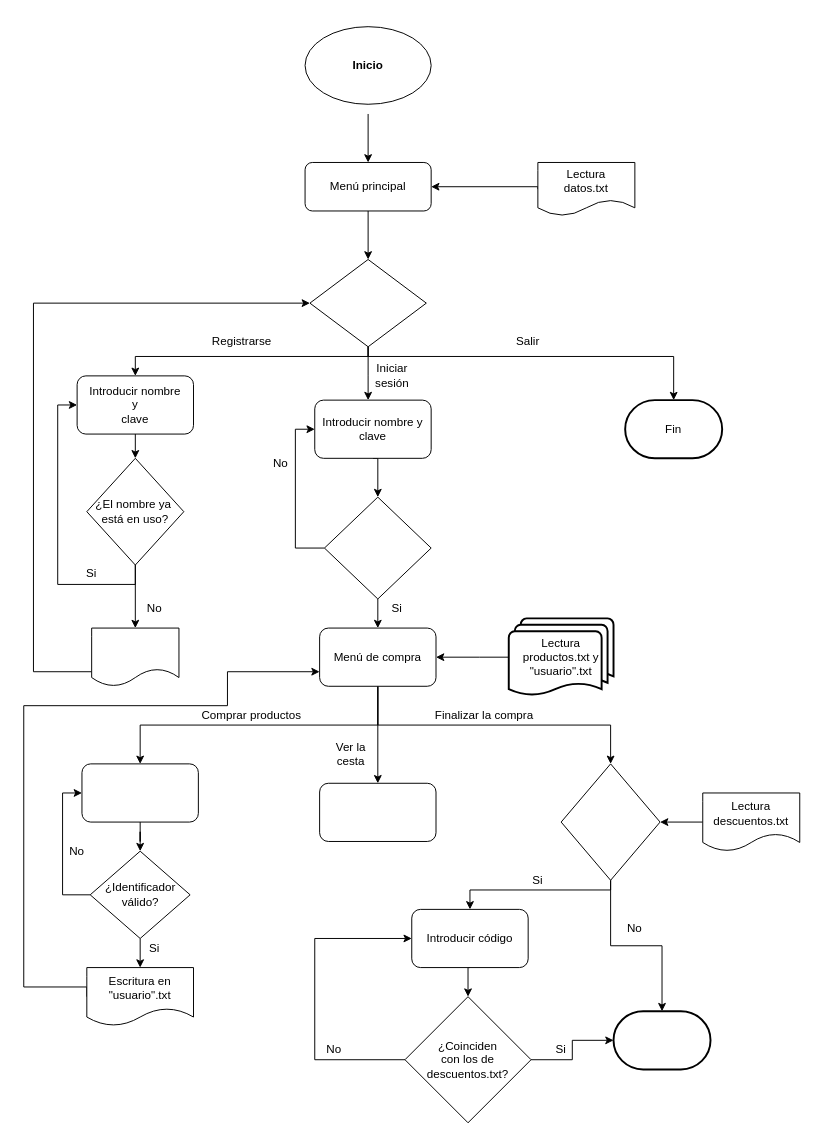
Some shapes in this 817 by 1140 pixel diagram are drawn without their labels. The centre of each missing label's shape, as x and y in pixels:
"Elección del producto introduciendo identificador" goes at (139,792).
"Escritura en datos.txt" goes at (135,656).
"Mostrar la cesta del usuario con los productos que lleva añadidos" goes at (377,811).
"Mostrar precio final de la compra" goes at (661,1040).
"¿Coinciden con los registrados?" goes at (377,547).
"¿Cuenta con algún código de descuento?" goes at (610,821).
"¿Qué desea hacer?" goes at (367,303).
